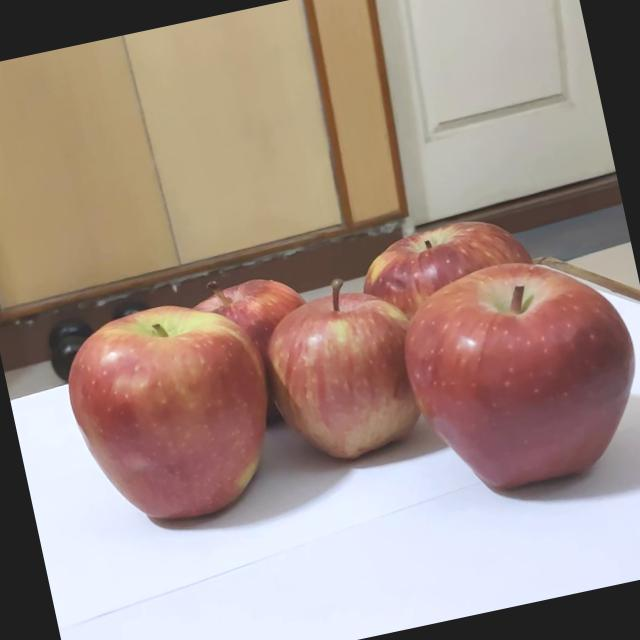apple: (326, 291, 604, 581), (360, 196, 590, 420), (41, 305, 262, 533), (220, 291, 418, 488), (186, 242, 354, 405)
